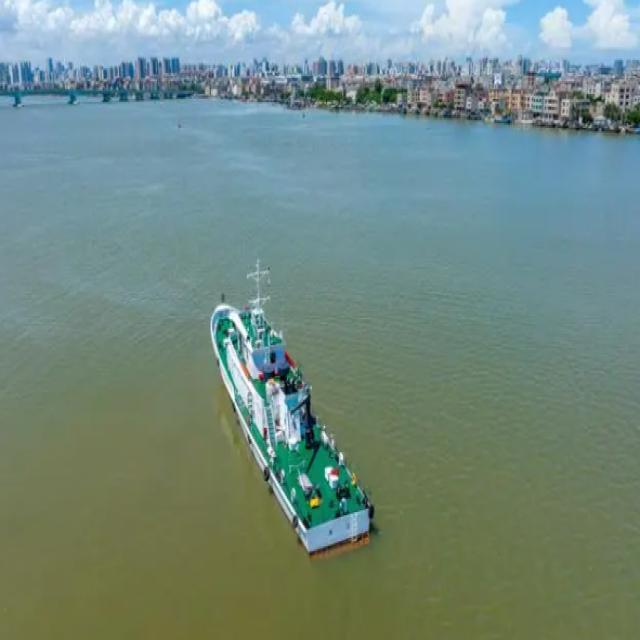fishing boat: (208, 258, 376, 560)
